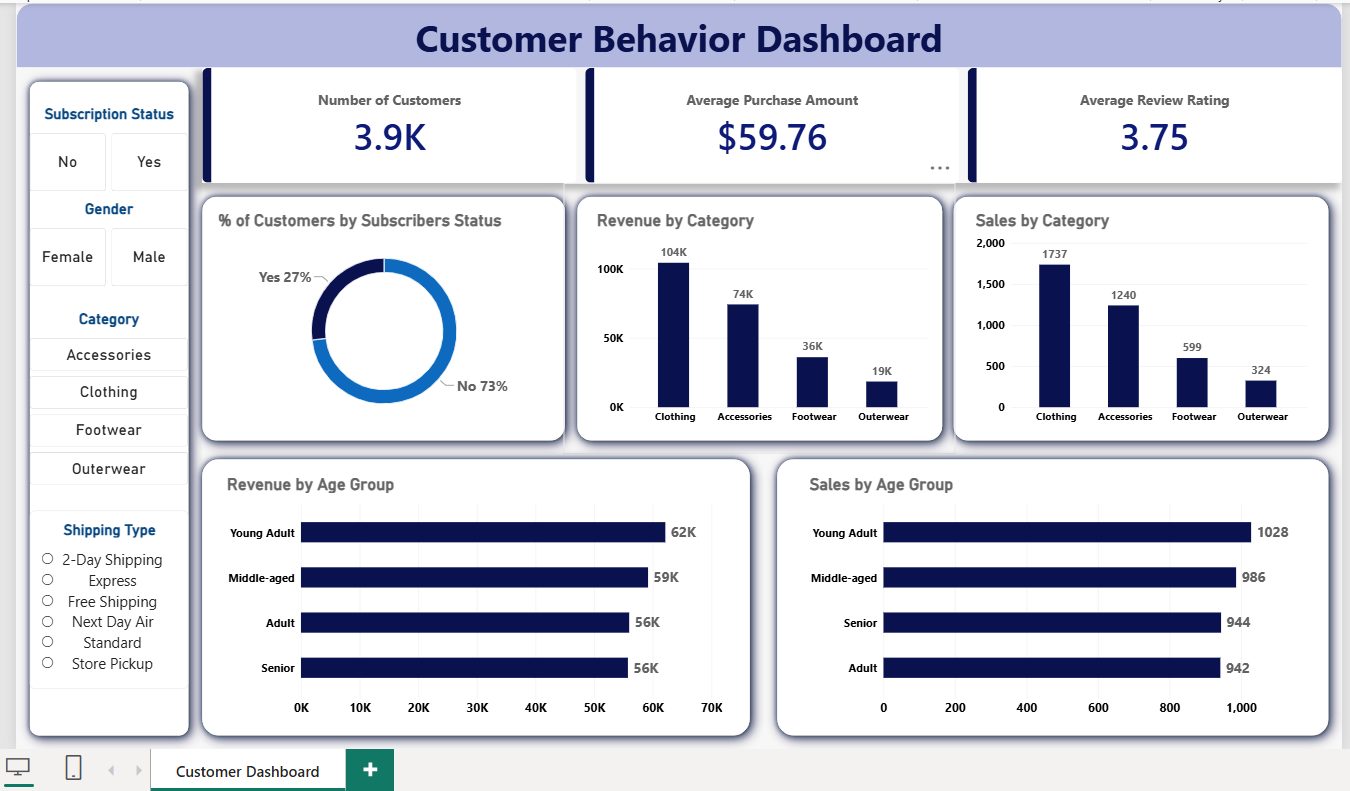

This screenshot's page, from the dashboard's own definition file:
{"tool":"powerbi","page":{"name":"Customer Dashboard","canvas":[1920,1080],"ordinal":0},"visuals":[{"type":"shape","box":[249.7,260.6,564.6,392.7],"z":0},{"type":"cardVisual","fields":{"Data":["public customer.Number of Customers","public customer.Average Purchase Amount","public customer.Average Review Rating"]},"box":[269.6,94.1,1650.4,166.5],"z":1000},{"type":"shape","box":[0,0,1920.1,94.1],"z":2000},{"type":"textbox","box":[0,12.7,1920.1,81.4],"z":3000},{"type":"donutChart","title":"% of Customers by Subscribers Status","fields":{"Category":["public customer.subscription_status"],"Y":["CountNonNull(public customer.customer_id)"]},"box":[276.9,285.9,512.1,343.8],"z":4000},{"type":"shape","box":[1337.3,260.6,582.7,392.7],"z":5000},{"type":"shape","box":[791.7,260.6,568.2,392.7],"z":6000},{"type":"clusteredColumnChart","title":"Revenue by Category","fields":{"Category":["public customer.category"],"Y":["Sum(public customer.purchase_amount)"]},"box":[825.2,285.9,512.1,343.8],"z":6001},{"type":"clusteredColumnChart","title":"Sales by Category","fields":{"Category":["public customer.category"],"Y":["CountNonNull(public customer.customer_id)"]},"box":[1373.5,285.9,512.1,343.8],"z":6002},{"type":"shape","box":[0,94.1,269.6,986.3],"z":6003},{"type":"advancedSlicerVisual","title":"Subscription Status","fields":{"Values":["public customer.subscription_status"]},"box":[19.9,148.4,229.8,124.9],"z":6004},{"type":"advancedSlicerVisual","title":"Gender","fields":{"Values":["public customer.gender"]},"box":[19.9,285.9,229.8,124.9],"z":6005},{"type":"advancedSlicerVisual","title":"Category","fields":{"Values":["public customer.category"]},"box":[19.9,445.2,229.8,255.2],"z":6006},{"type":"listSlicer","title":"Shipping Type","fields":{"Values":["public customer.shipping_type"]},"box":[19.9,734.7,229.8,258.8],"z":6007},{"type":"shape","box":[249.7,640.6,832.4,439.7],"z":6008},{"type":"clusteredBarChart","title":"Revenue by Age Group","fields":{"Category":["public customer.age_group"],"Y":["Sum(public customer.purchase_amount)"]},"box":[289.5,667.8,749.2,385.5],"z":6009},{"type":"shape","box":[1082.2,640.6,837.9,439.7],"z":6010},{"type":"clusteredBarChart","title":"Sales by Age Group","fields":{"Category":["public customer.age_group"],"Y":["CountNonNull(public customer.customer_id)"]},"box":[1132.8,667.8,749.2,385.5],"z":6011}]}

Visuals, with their boxes in screenshot pixels (x1, y1, x2, y2):
shape: (x1=187, y1=177, x2=579, y2=449)
cardVisual - public customer.Number of Customers x public customer.Average Purchase Amount: (x1=201, y1=62, x2=1345, y2=177)
shape: (x1=14, y1=0, x2=1345, y2=62)
textbox: (x1=14, y1=5, x2=1345, y2=62)
"% of Customers by Subscribers Status" donutChart: (x1=206, y1=195, x2=561, y2=433)
shape: (x1=941, y1=177, x2=1345, y2=449)
shape: (x1=563, y1=177, x2=957, y2=449)
"Revenue by Category" clusteredColumnChart: (x1=586, y1=195, x2=941, y2=433)
"Sales by Category" clusteredColumnChart: (x1=966, y1=195, x2=1322, y2=433)
shape: (x1=14, y1=62, x2=201, y2=746)
"Subscription Status" advancedSlicerVisual: (x1=28, y1=99, x2=187, y2=186)
"Gender" advancedSlicerVisual: (x1=28, y1=195, x2=187, y2=281)
"Category" advancedSlicerVisual: (x1=28, y1=305, x2=187, y2=482)
"Shipping Type" listSlicer: (x1=28, y1=506, x2=187, y2=685)
shape: (x1=187, y1=441, x2=764, y2=746)
"Revenue by Age Group" clusteredBarChart: (x1=215, y1=460, x2=734, y2=727)
shape: (x1=764, y1=441, x2=1345, y2=746)
"Sales by Age Group" clusteredBarChart: (x1=800, y1=460, x2=1319, y2=727)
